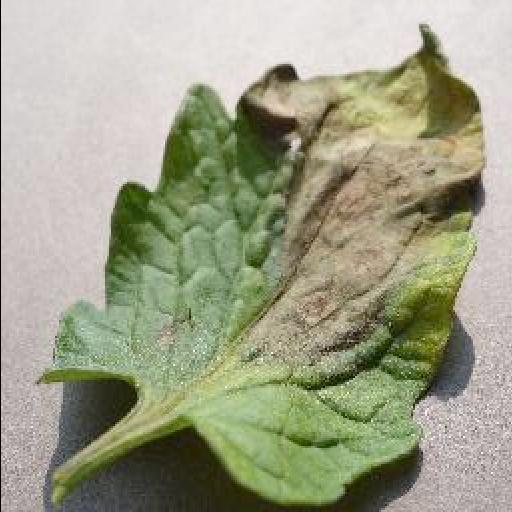disease_tomato: (31, 24, 493, 510)
